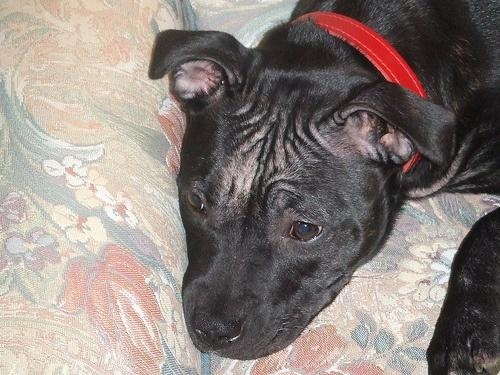dog: (147, 1, 500, 375)
